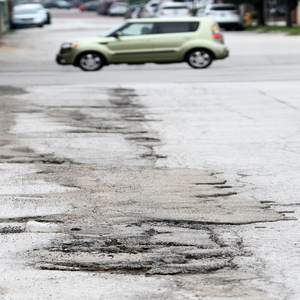pothole: (37, 260, 241, 278), (51, 239, 230, 256), (133, 214, 236, 233)
